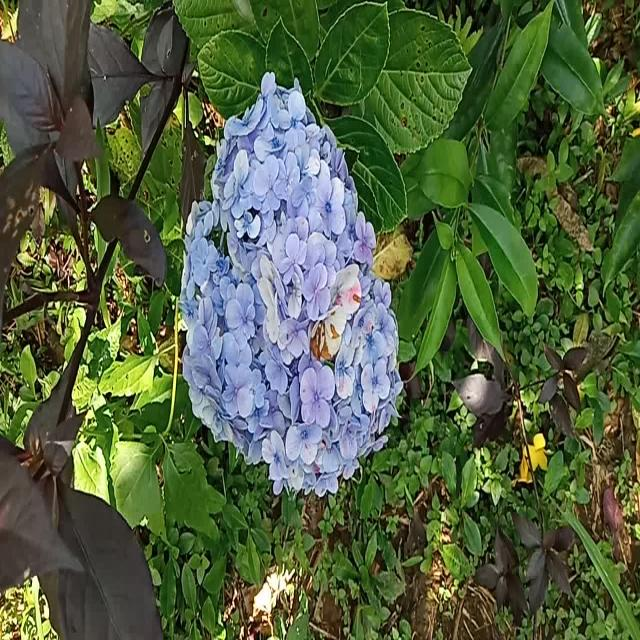Flower: (180, 80, 402, 498)
